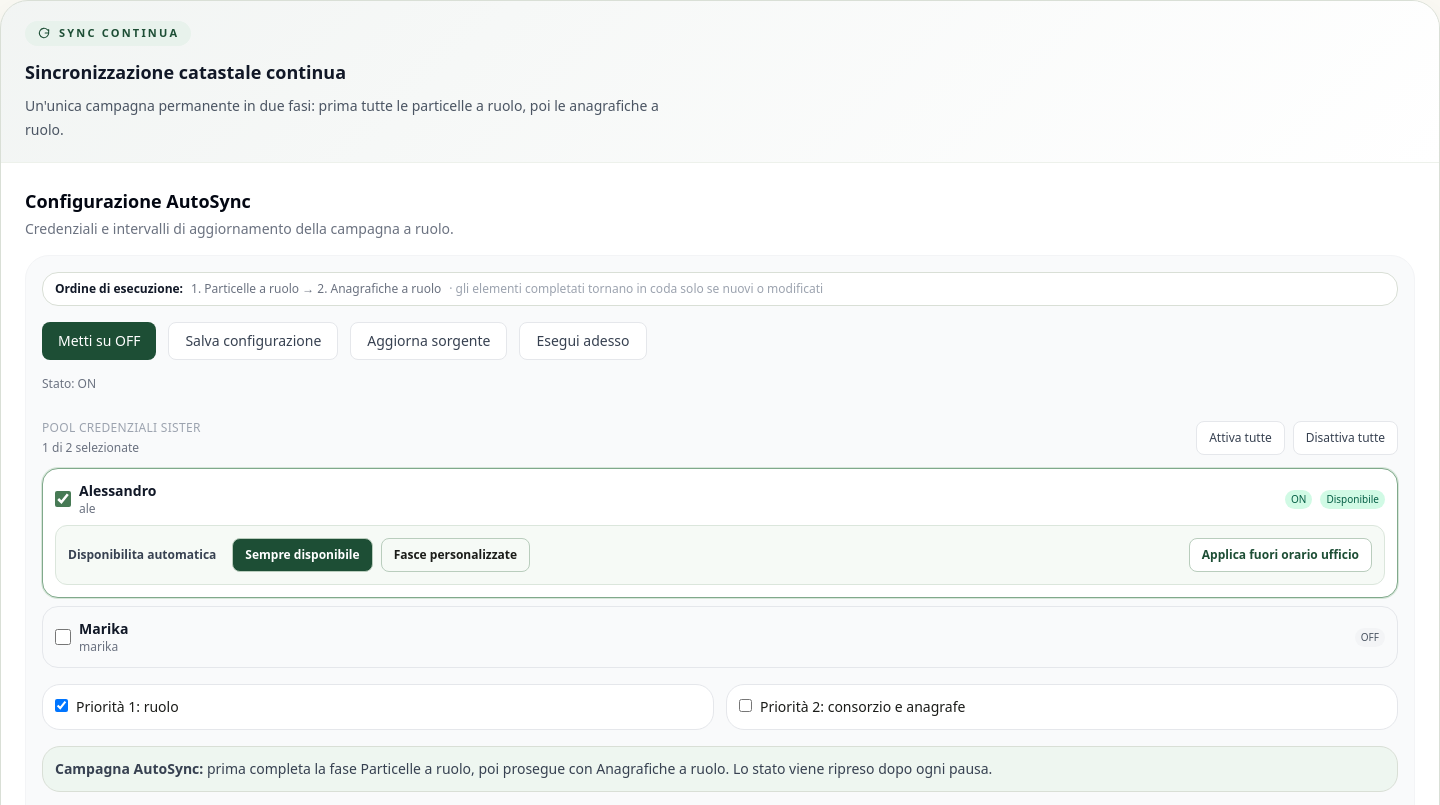
Test: ElaborazioneRequestWorkspace continuous sync › selects and deselects every active credential from the pool
The width and height of the screenshot is (1440, 805).
Check: the text "1 di 2 selezionate" is shown, box 42,439 -> 139,456
Check: the number of list items with test id "autosync-credential-row" is 2, box 42,468 -> 1398,598; 42,606 -> 1398,668
Click the button "Attiva tutte" at (1240, 438), box 1196,421 -> 1285,455
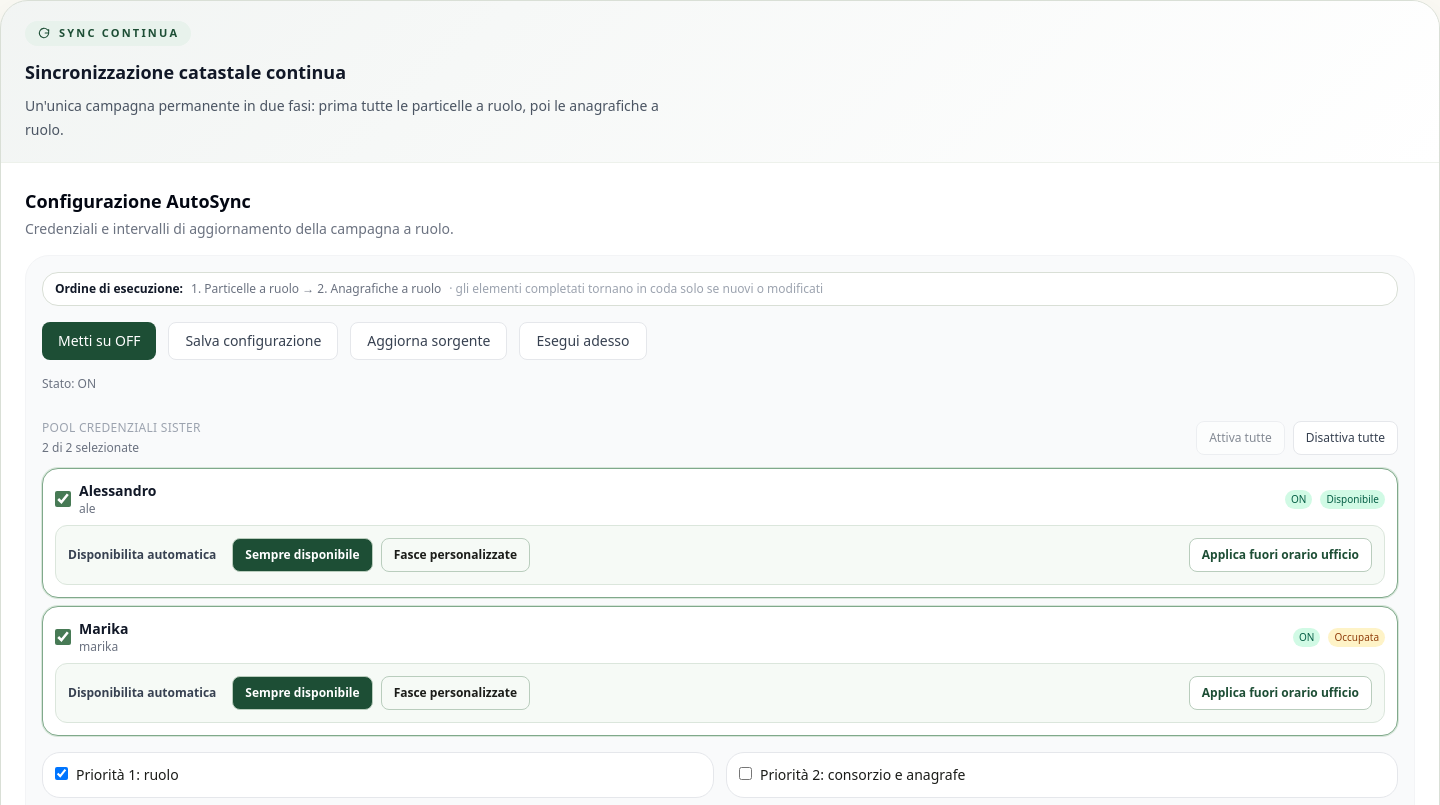
Check: the checkbox labelled "Alessandro ale ON Disponibile" is checked, box 55,491 -> 71,507
Check: the checkbox labelled "Marika marika ON Occupata" is checked, box 55,629 -> 71,645
Check: the text "2 di 2 selezionate" is shown, box 42,439 -> 139,456
Click the button "Disattiva tutte" at (1345, 438), box 1293,421 -> 1398,455
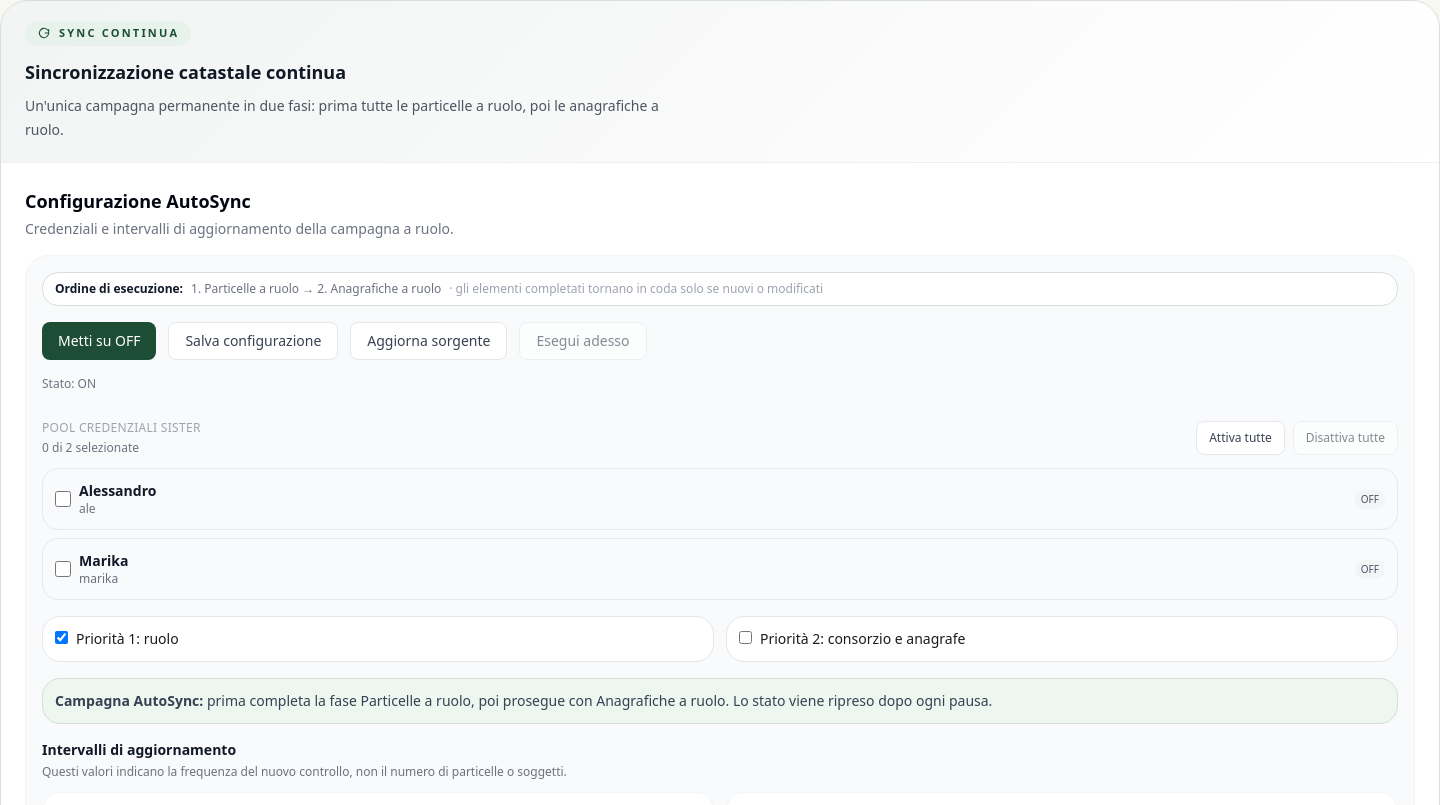
Check: the checkbox labelled "Alessandro ale OFF" is not checked, box 55,491 -> 71,507
Check: the checkbox labelled "Marika marika OFF" is not checked, box 55,561 -> 71,577
Check: the text "0 di 2 selezionate" is shown, box 42,439 -> 139,456
